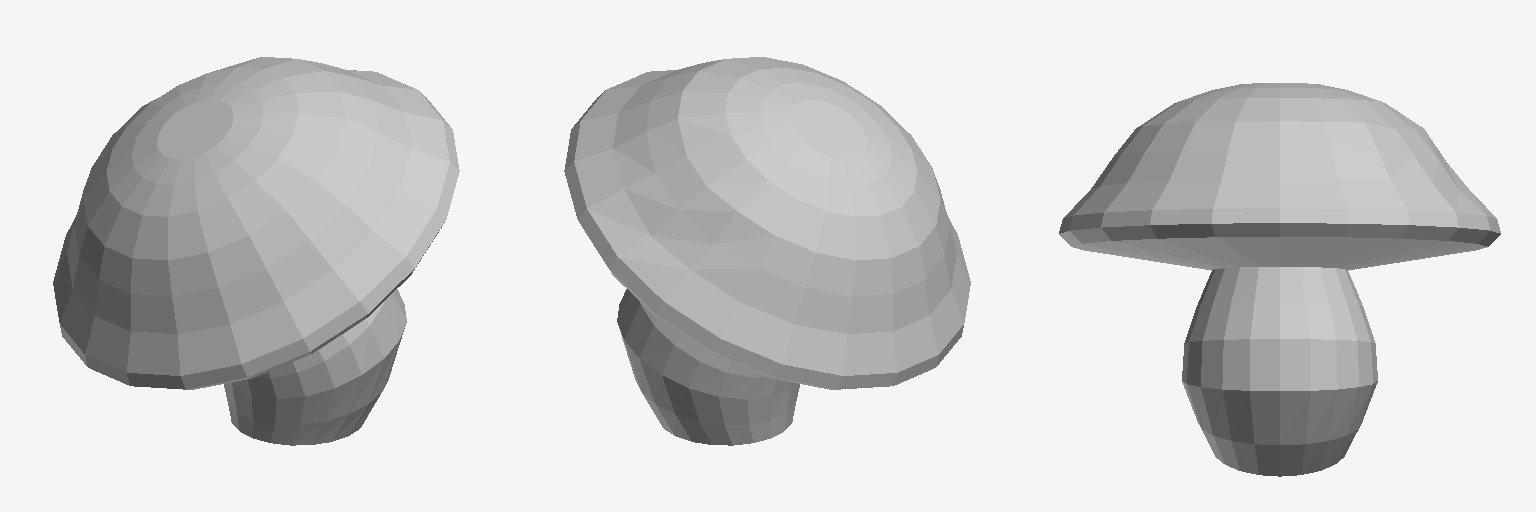
The model's file is mushroom.obj.
3 renders of one model, left to right at view 1: azimuth 30°, elevation 25°; view 2: azimuth 150°, elevation 25°; view 3: azimuth 270°, elevation 25°, orthographic.
Parts seen in each view (by area): view 1: pCylinder2; view 2: pCylinder2; view 3: pCylinder2.
Part boxes in pixels (x1,y1,x2,y2): pCylinder2: (53,57,459,445); pCylinder2: (564,57,970,445); pCylinder2: (1059,83,1500,476).
Bounding box in the file's own units: 1.63 × 1.56 × 1.83.